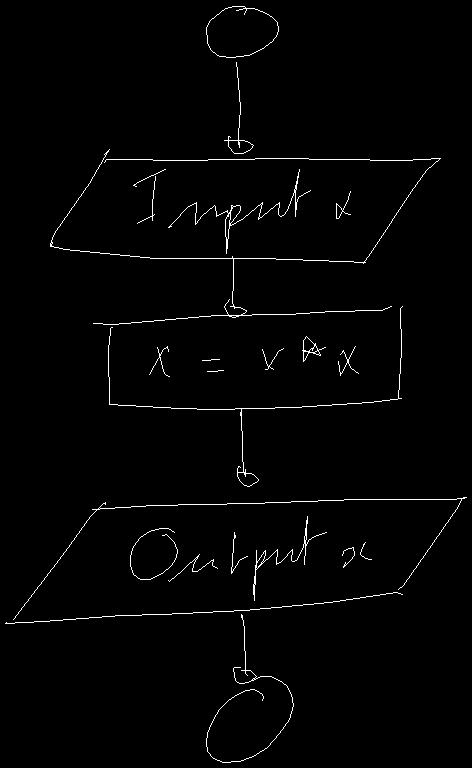arrow: (224, 62, 253, 153), (237, 408, 258, 486), (233, 614, 256, 683), (224, 256, 246, 317)
connection: (206, 676, 293, 762), (206, 6, 278, 57)
data: (5, 497, 466, 623), (50, 149, 440, 263)
process: (93, 306, 402, 409)
text: (130, 516, 371, 600), (133, 169, 350, 253), (149, 336, 358, 376)
